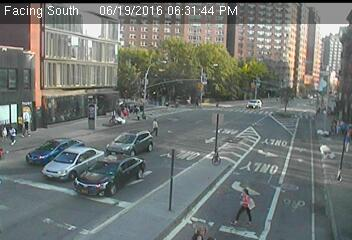neg: (243, 110, 274, 151), (202, 107, 223, 135), (286, 119, 304, 143), (163, 105, 177, 124)
pos: (228, 183, 260, 226), (15, 112, 33, 136), (147, 114, 164, 136), (338, 127, 351, 155), (5, 124, 20, 144)
